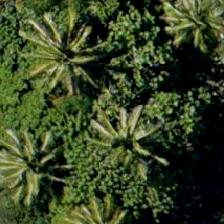Kelapa_Sawit: (19, 17, 109, 107), (80, 105, 170, 195), (0, 122, 72, 212), (154, 0, 223, 66)
